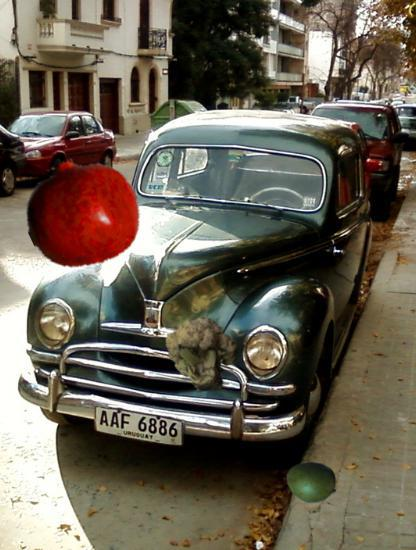Cauliflower: (166, 316, 244, 394)
Mango: (286, 457, 338, 509)
Pomegranate: (25, 156, 139, 270)
